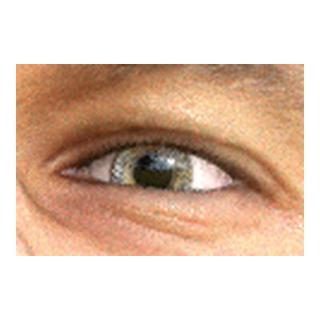pupil: (134, 154, 172, 193)
